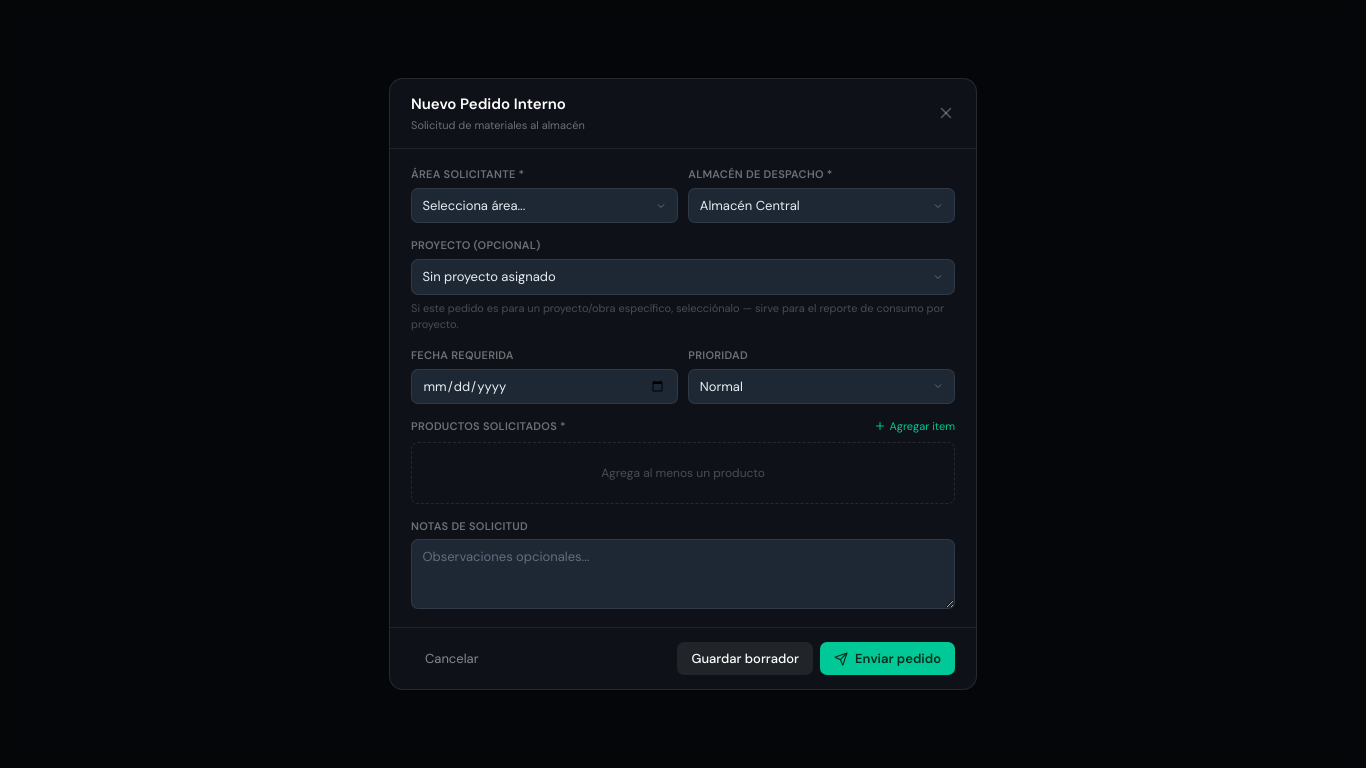
Test case: ModalPedido (Pedidos Internos) › exige área, almacén e ítems antes de guardar
Click the button "Enviar pedido" at (888, 659), box [820,642,955,675]
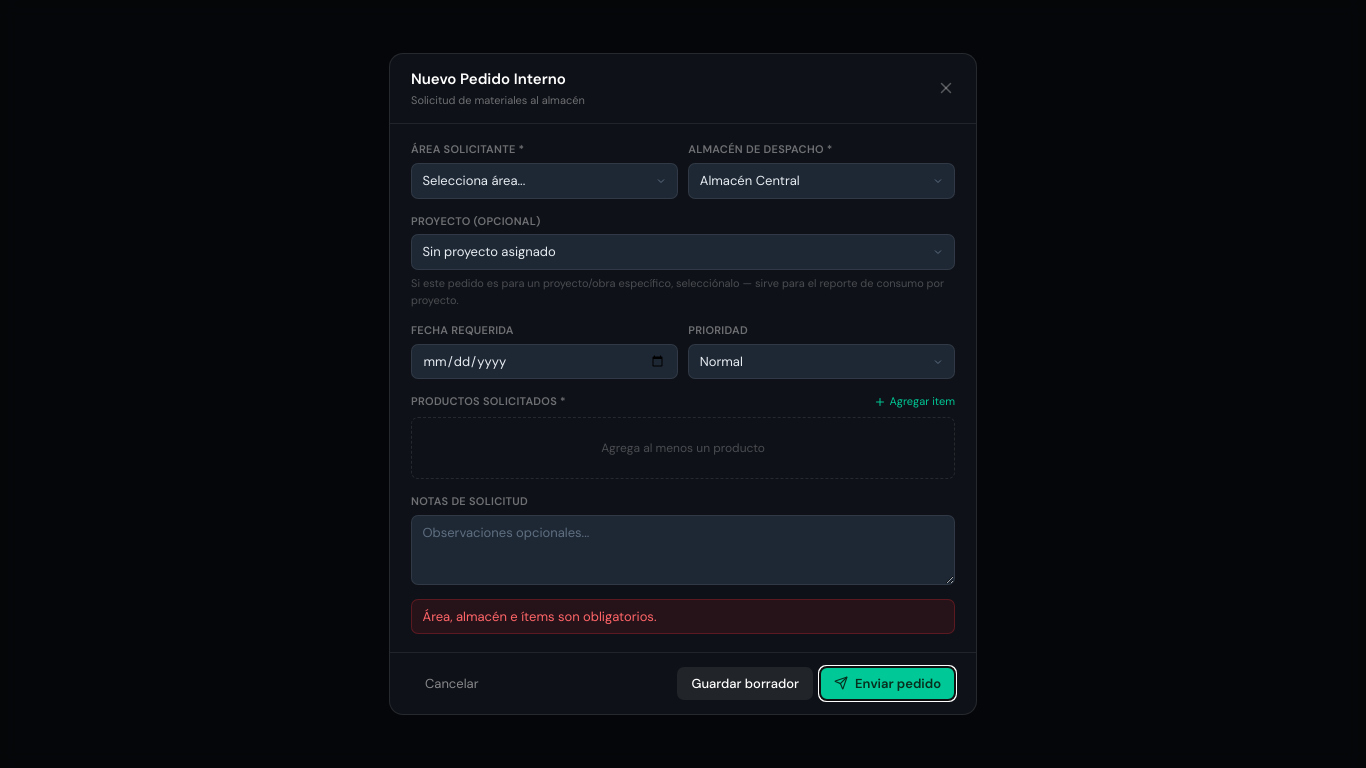
Expected: the text "Área, almacén e ítems son obligatorios." is shown, [411,598,955,634]
